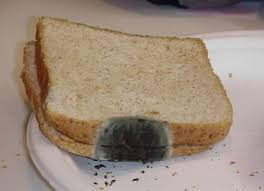mold_bread: (96, 111, 172, 164)
